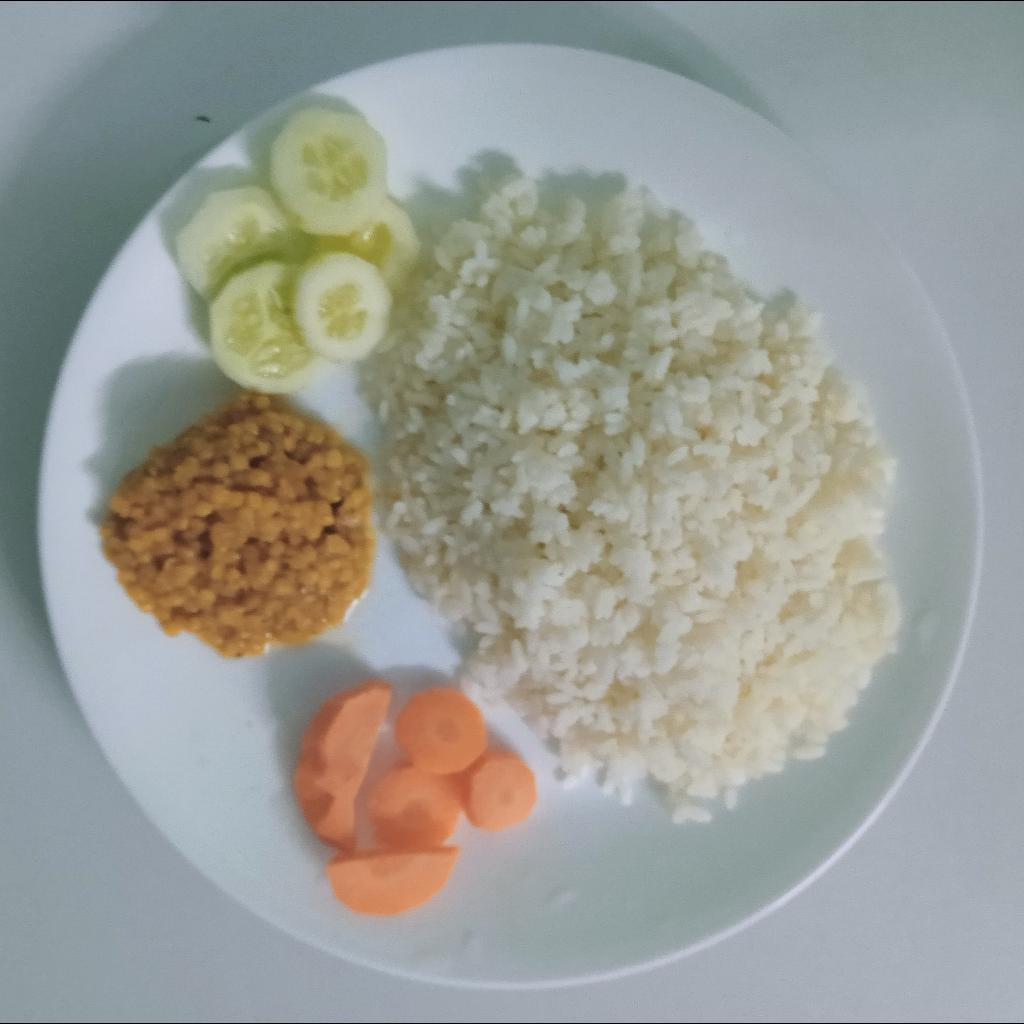carrot: (292, 678, 539, 916)
cucumber: (174, 105, 426, 395)
daal: (102, 399, 373, 659)
rice: (365, 173, 904, 822)
